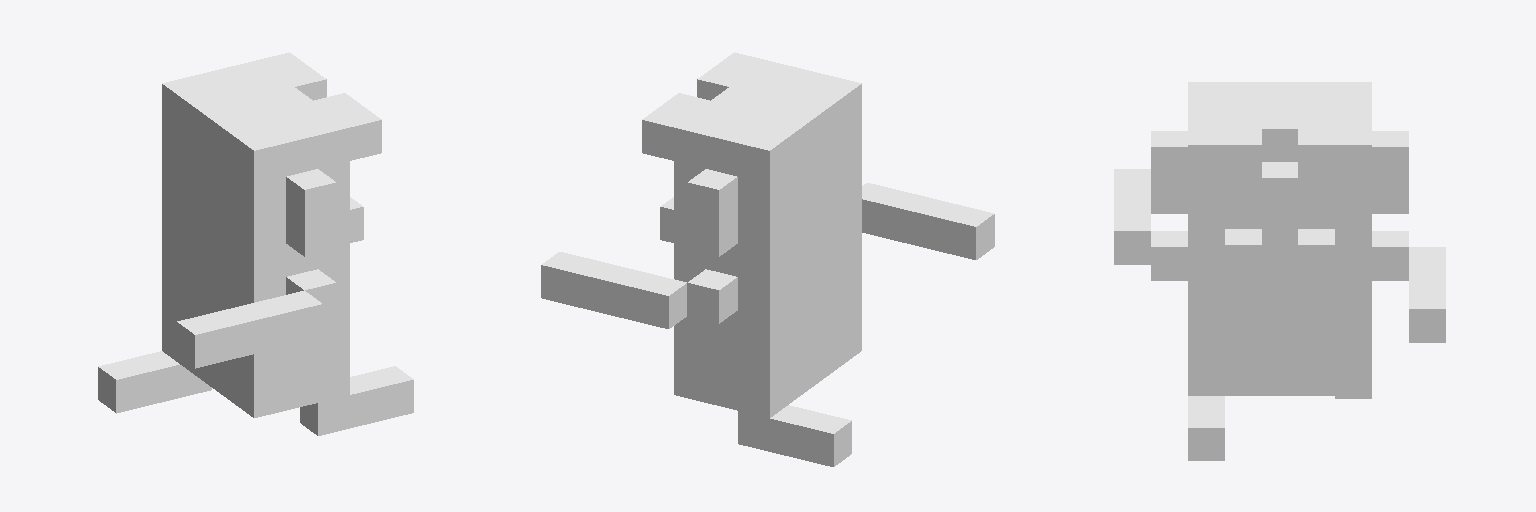
File: Man-2.obj
3 views of the same model, side by side, from view 1: azimuth 30°, elevation 25°; view 2: azimuth 150°, elevation 25°; view 3: azimuth 270°, elevation 25° (orthographic).
Visible parts, largest first — view 1: object 1; view 2: object 1; view 3: object 1.
Part boxes in pixels (bbox=[...]): object 1: bbox=[98, 52, 413, 435]; object 1: bbox=[541, 52, 994, 466]; object 1: bbox=[1114, 82, 1445, 460].
Size of the model in its own units: 0.9 by 0.9 by 0.9.